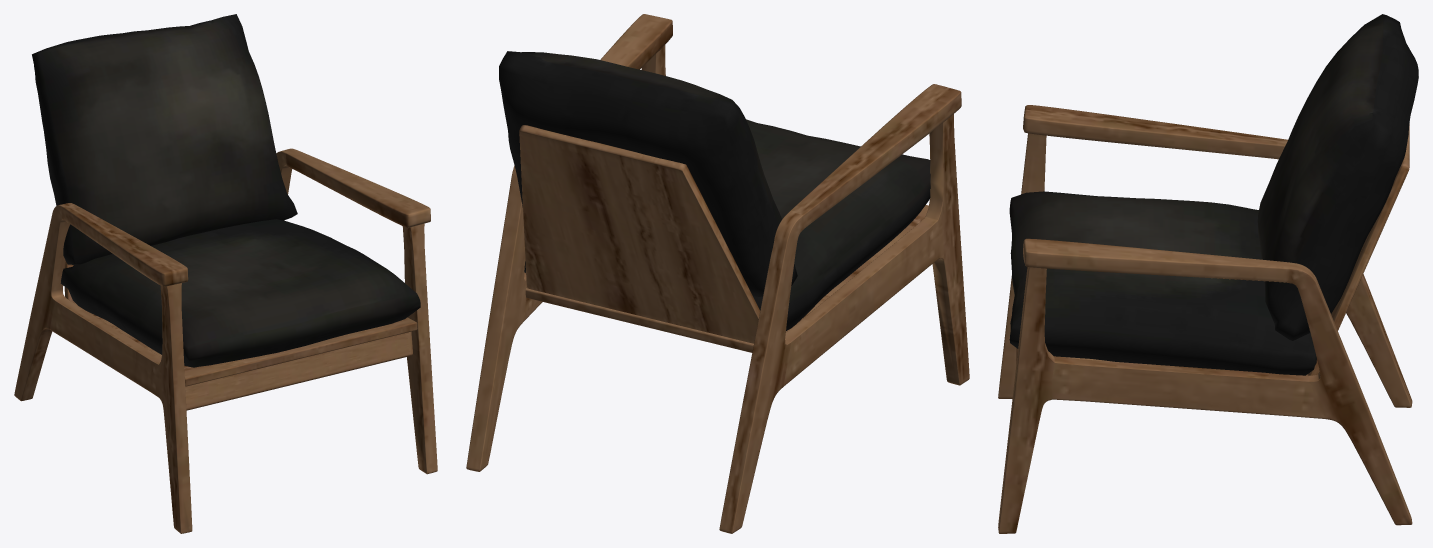
Rendered from modern_arm_chair_01.glb.
3 views of the same model, side by side, from view 1: azimuth 30°, elevation 25°; view 2: azimuth 150°, elevation 25°; view 3: azimuth 270°, elevation 25° (orthographic). The views are drawn at different scales.
Visible parts, largest first — view 1: modern_arm_chair_01; view 2: modern_arm_chair_01; view 3: modern_arm_chair_01.
Boxes of the visible parts, <box> form: modern_arm_chair_01: <box>14,14,437,533</box>; modern_arm_chair_01: <box>466,14,969,533</box>; modern_arm_chair_01: <box>998,14,1418,533</box>.
Size of the model in its own units: 0.8203 by 1.02 by 0.9866.
2 materials, 2 textured.
